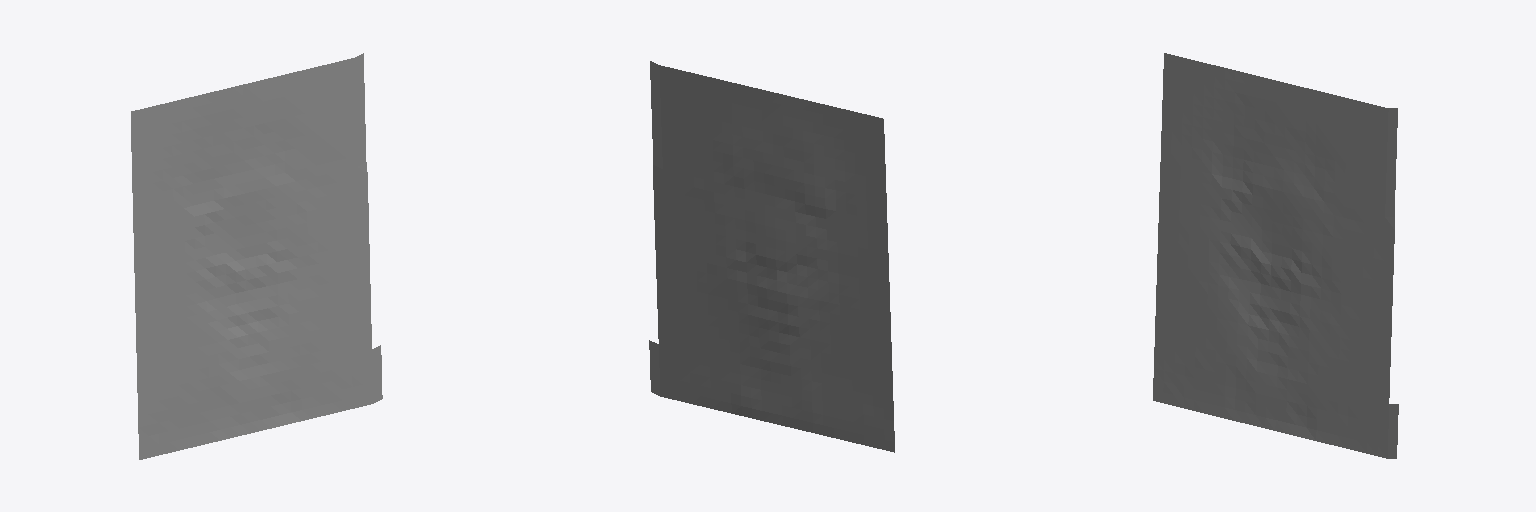
The model's file is frida.obj.
3 views of the same model, side by side, from view 1: azimuth 30°, elevation 25°; view 2: azimuth 150°, elevation 25°; view 3: azimuth 330°, elevation 25° (orthographic).
Visible parts, largest first — view 1: frida_Group14718; view 2: frida_Group14718; view 3: frida_Group14718.
Part boxes in pixels (left/top/right/bottom): frida_Group14718: left=131, top=53, right=382, bottom=459; frida_Group14718: left=649, top=61, right=894, bottom=452; frida_Group14718: left=1153, top=53, right=1398, bottom=458.
Bounding box in the file's own units: 0.6175 × 0.8304 × 0.0456.